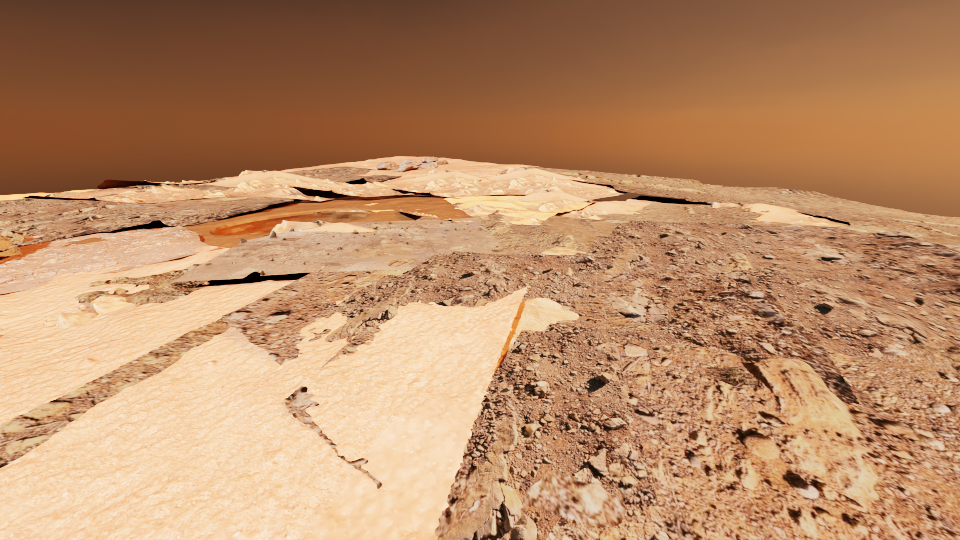bedrock: (74, 219, 959, 539), (0, 198, 293, 284), (551, 170, 716, 194), (847, 213, 959, 235), (285, 166, 401, 182), (743, 192, 835, 207), (167, 183, 235, 190), (677, 206, 720, 217), (186, 197, 278, 202), (129, 185, 152, 188), (203, 178, 223, 181)
hole: (209, 209, 370, 235)
rocks: (376, 157, 448, 171), (0, 246, 21, 256), (0, 234, 13, 249)
sand: (0, 286, 578, 539), (0, 246, 298, 424), (442, 195, 597, 253), (280, 156, 528, 183), (607, 196, 710, 207), (902, 232, 959, 251), (826, 220, 891, 233), (584, 219, 628, 235), (0, 193, 52, 199), (743, 220, 792, 225), (367, 194, 428, 197), (632, 211, 674, 214), (801, 225, 835, 228), (331, 196, 365, 199)
soil: (613, 330, 959, 539), (0, 271, 363, 467), (47, 180, 549, 274), (527, 167, 959, 233), (284, 386, 381, 488), (522, 469, 625, 527), (434, 451, 489, 538), (22, 224, 174, 247), (597, 282, 658, 331), (321, 327, 381, 368), (555, 213, 608, 236), (0, 275, 54, 293), (508, 222, 550, 235), (308, 328, 330, 341), (287, 221, 310, 230), (140, 180, 170, 185), (23, 235, 45, 241), (189, 181, 213, 184), (586, 241, 592, 250)
